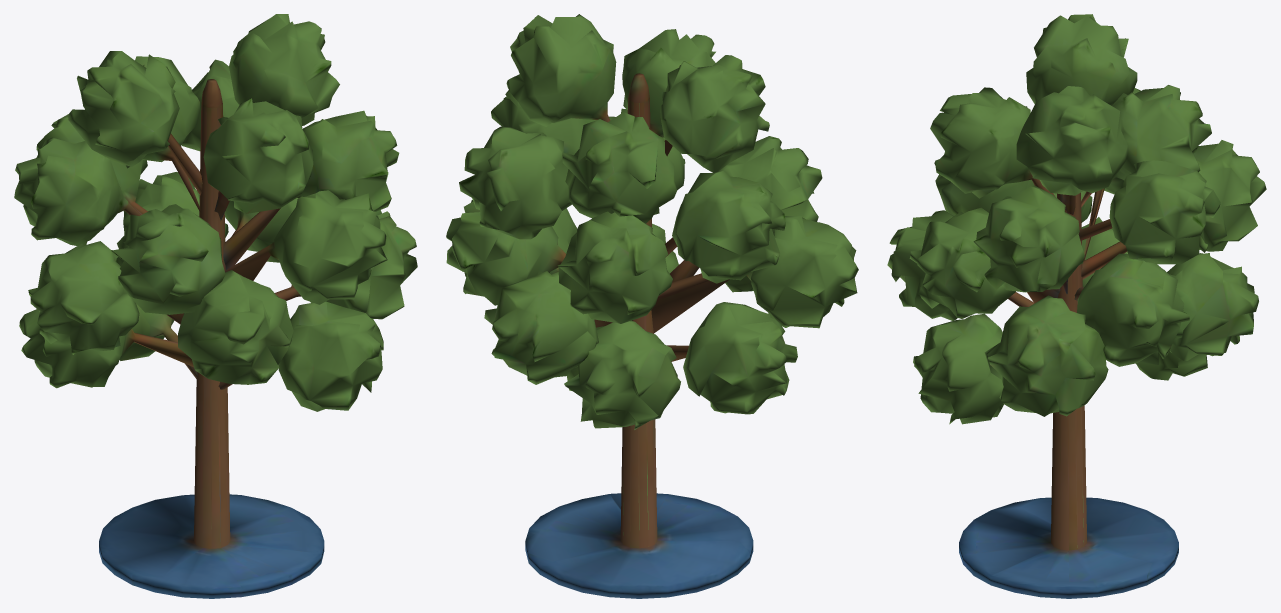
File: tree.glb
3 renders of one model, left to right at view 1: azimuth 30°, elevation 25°; view 2: azimuth 150°, elevation 25°; view 3: azimuth 270°, elevation 25°, orthographic. The views are drawn at different scales.
Parts seen in each view (by area): view 1: tripo_node_3eee7c16-8f38-4d96-b4db-71cfab112eb9; view 2: tripo_node_3eee7c16-8f38-4d96-b4db-71cfab112eb9; view 3: tripo_node_3eee7c16-8f38-4d96-b4db-71cfab112eb9.
Boxes of the visible parts, x1,y1,x2,y2 form: tripo_node_3eee7c16-8f38-4d96-b4db-71cfab112eb9: (14, 14, 417, 598); tripo_node_3eee7c16-8f38-4d96-b4db-71cfab112eb9: (446, 14, 858, 598); tripo_node_3eee7c16-8f38-4d96-b4db-71cfab112eb9: (887, 14, 1266, 598).
Size of the model in its own units: 0.7794 by 0.998 by 0.6933.
Materials: 1 (1 with a texture image).
